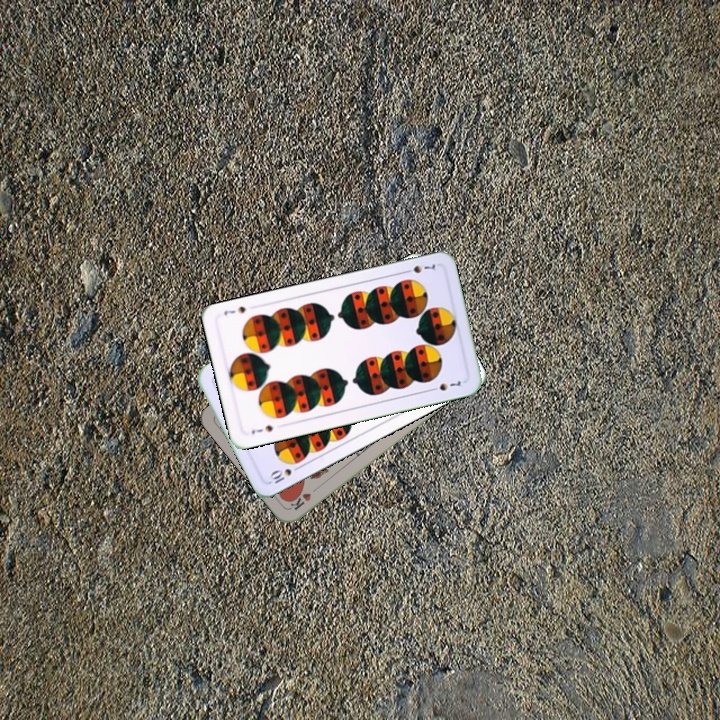HK: (286, 482, 322, 512)
S10: (265, 461, 304, 486)
S7: (399, 260, 439, 276), (247, 421, 276, 437)
